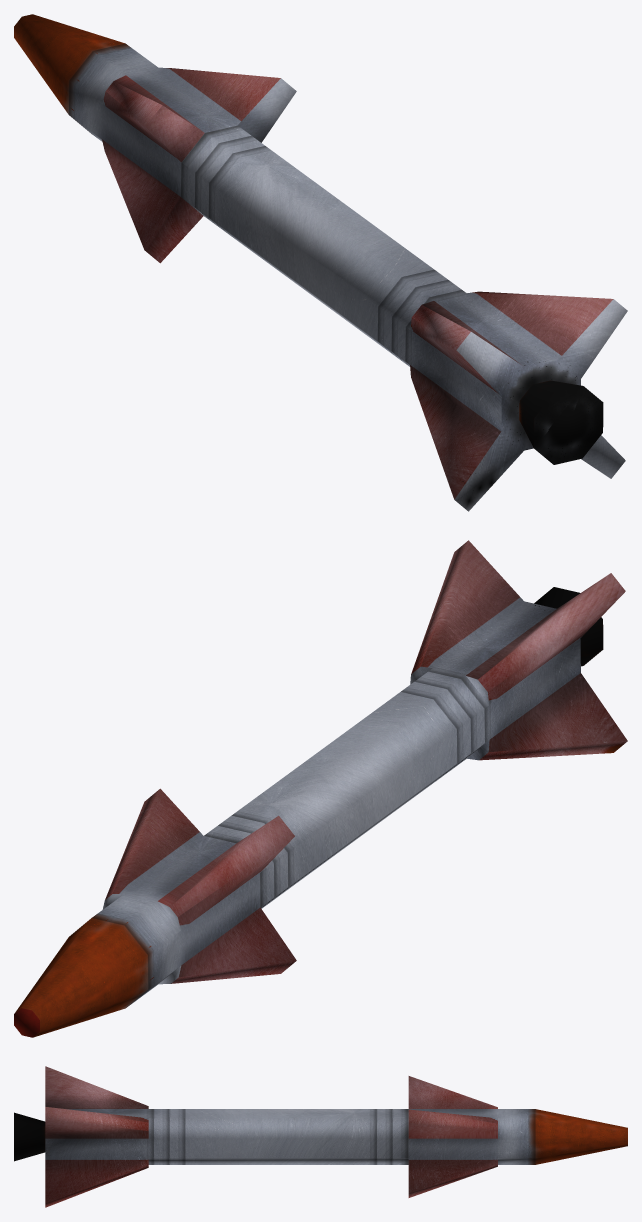
The model's file is Rocket_1.FBX.
3 renders of one model, top to bottom at view 1: azimuth 30°, elevation 25°; view 2: azimuth 150°, elevation 25°; view 3: azimuth 270°, elevation 25°, orthographic. The views are drawn at different scales.
Parts seen in each view (by area): view 1: Cylinder001; view 2: Cylinder001; view 3: Cylinder001.
Part boxes in pixels (bbox=[...]): Cylinder001: bbox=[14, 14, 627, 511]; Cylinder001: bbox=[14, 540, 627, 1037]; Cylinder001: bbox=[14, 1066, 627, 1207].
Bounding box in the file's own units: 12.28 × 12.28 × 66.36.
1 material, 1 textured.
